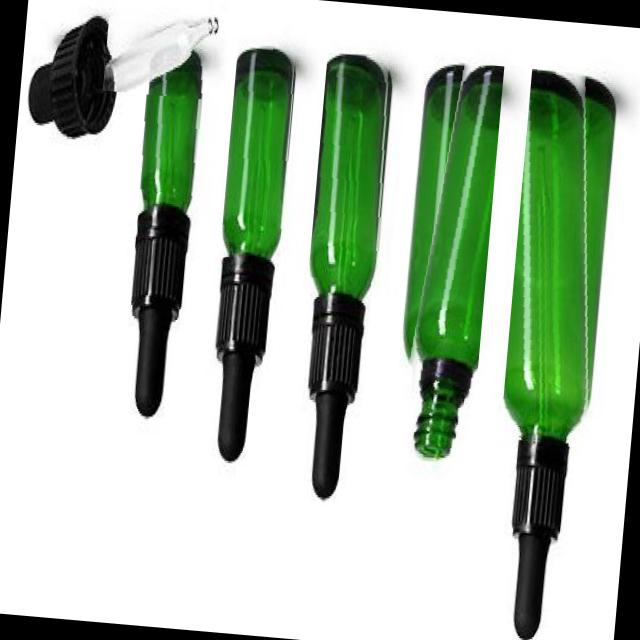Glass: (498, 68, 620, 446), (390, 59, 503, 466), (305, 51, 395, 300), (218, 42, 298, 261), (135, 38, 208, 212), (102, 3, 220, 98)
